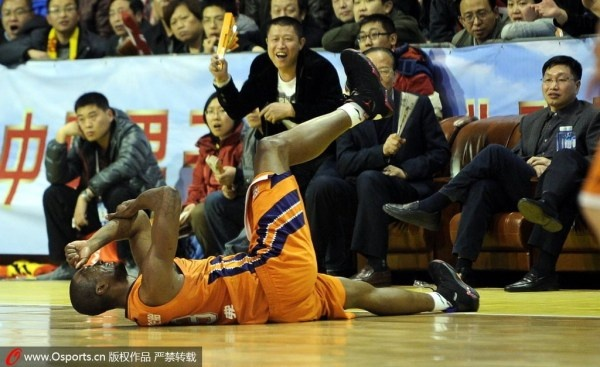falling: (77, 56, 459, 343)
